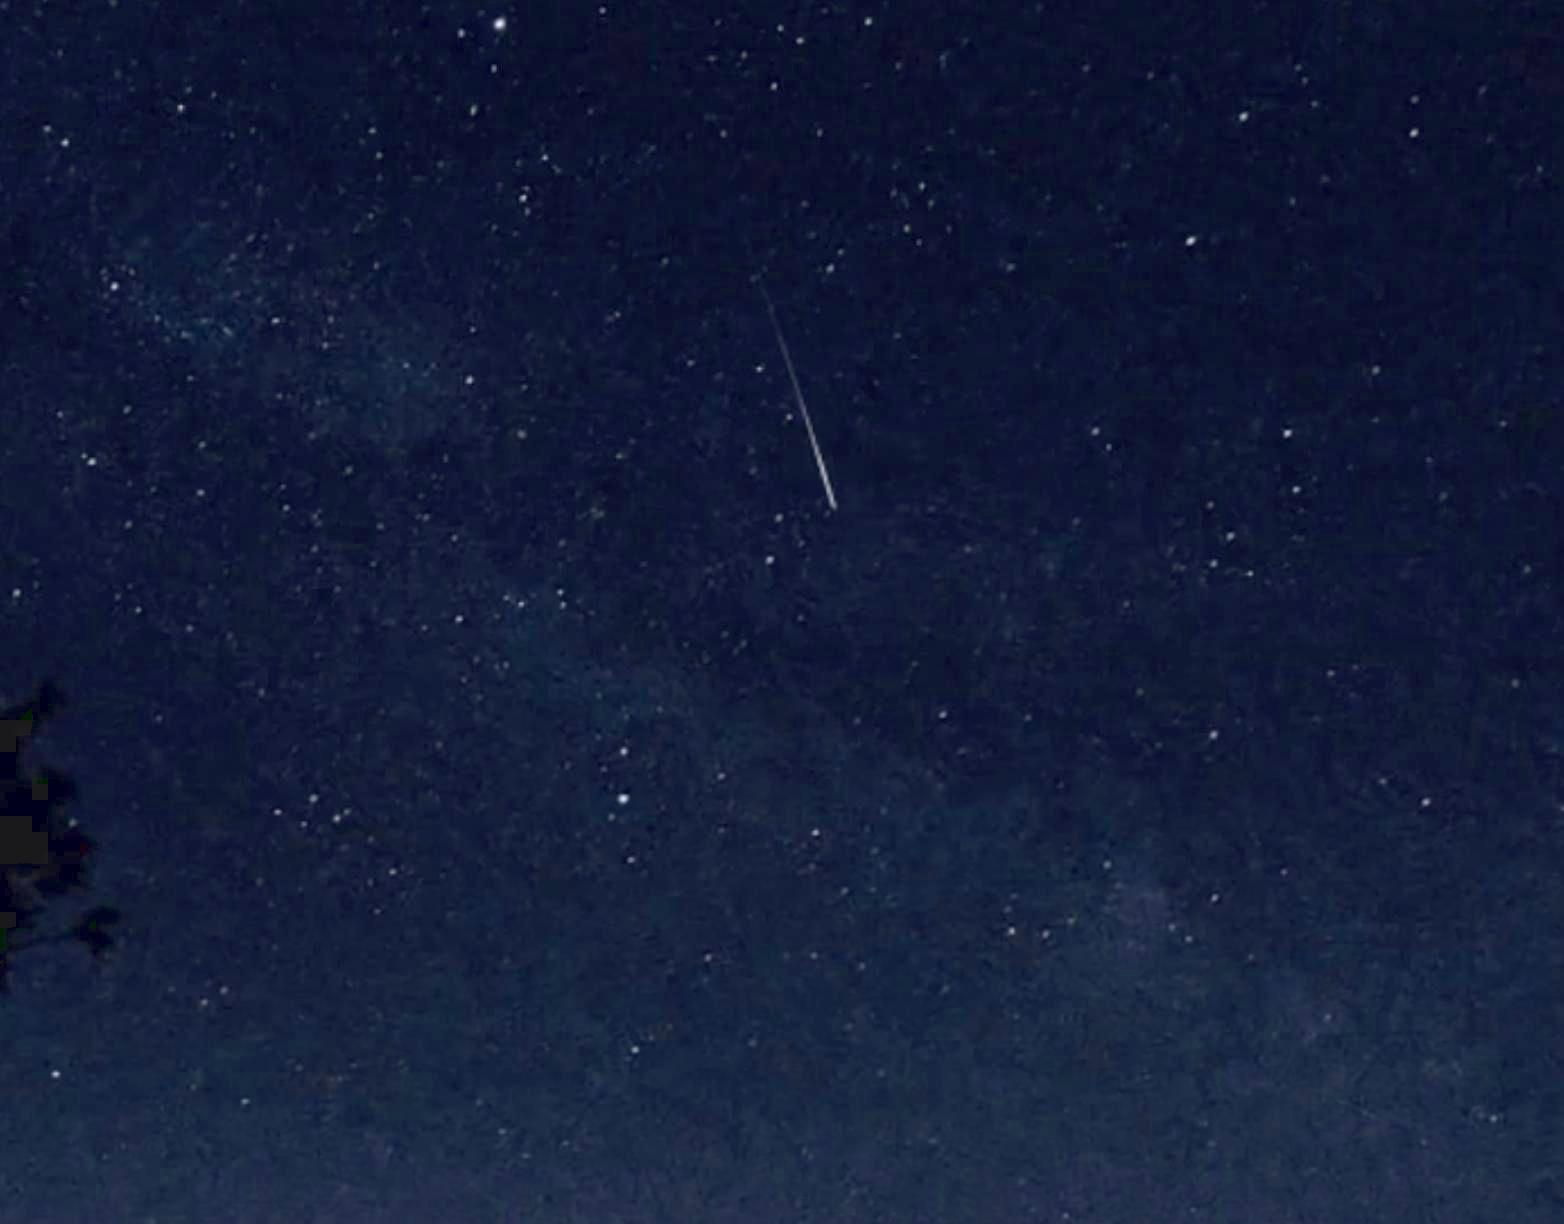meteorite: (732, 276, 854, 499)
